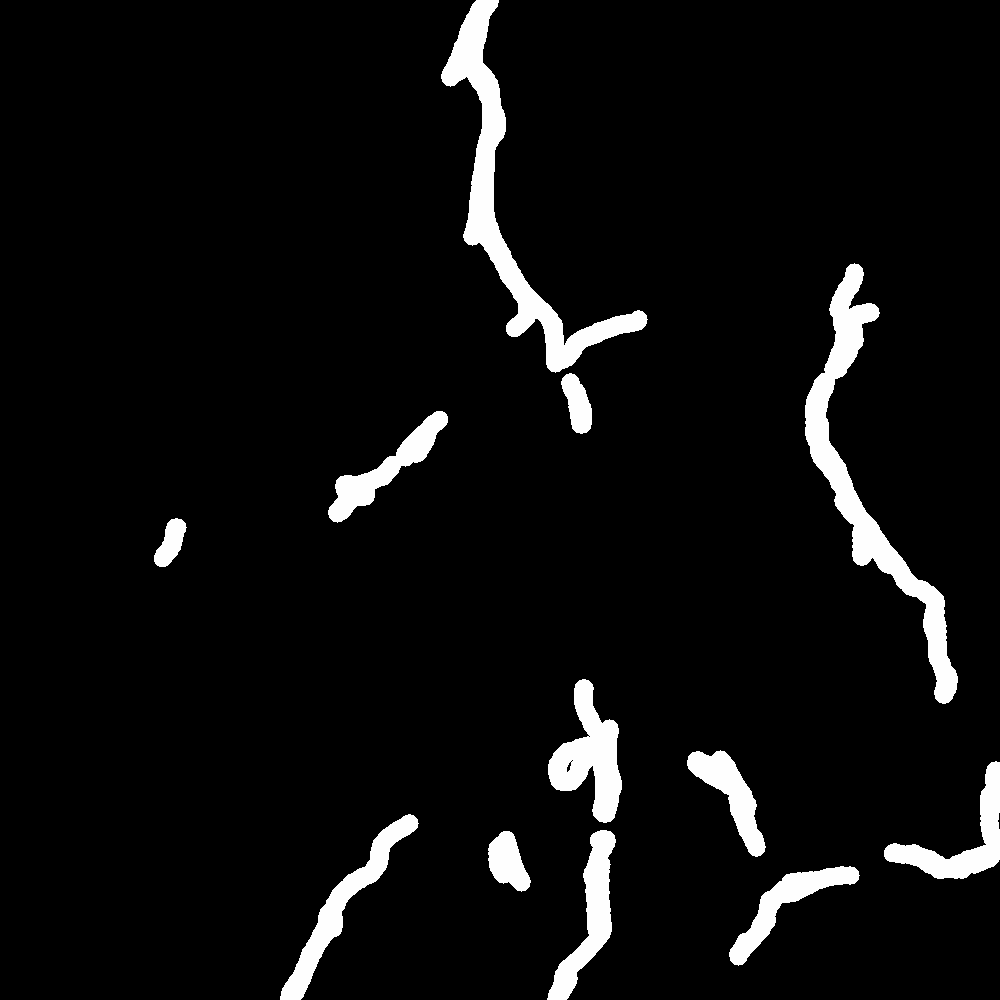illegal: (464, 1, 644, 417), (809, 423, 963, 694), (287, 788, 434, 1000), (742, 846, 1000, 952), (550, 669, 625, 936), (706, 758, 776, 869)
